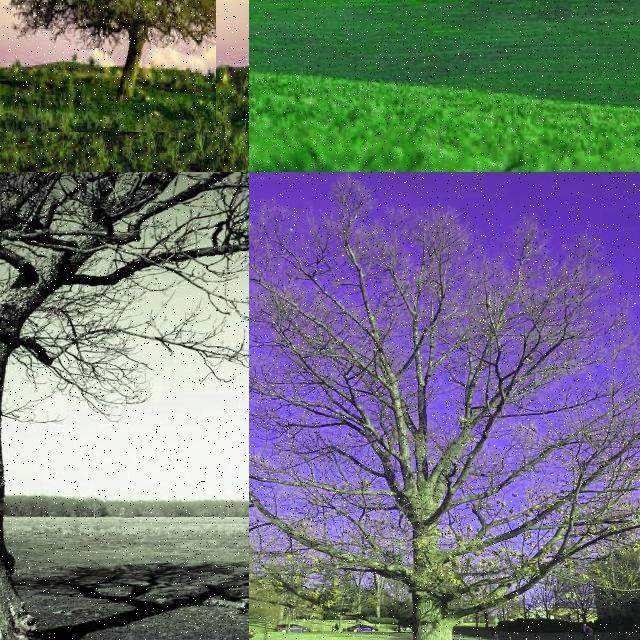tree: (248, 179, 639, 640), (0, 172, 248, 640), (0, 0, 216, 132), (490, 0, 570, 24)
